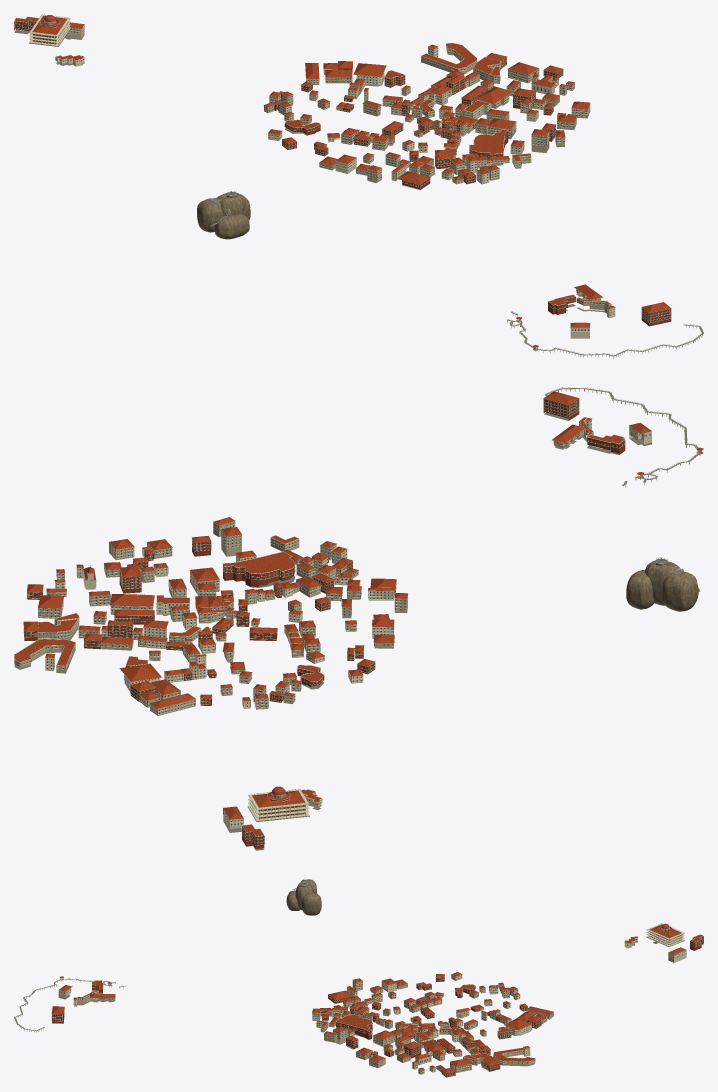
File: detail.glb
3 views of the same model, one above another, from view 1: azimuth 30°, elevation 25°; view 2: azimuth 150°, elevation 25°; view 3: azimuth 270°, elevation 25° (orthographic). The views are drawn at different scales.
Parts seen in each view (by area): view 1: B_164669129_协和礼拜堂, B_641097232_Historic_villa, LM_Sunlight_Rock_日光岩_Granite; view 2: B_164669129_协和礼拜堂, B_641097232_Historic_villa, LM_Sunlight_Rock_日光岩_Granite; view 3: B_164669129_协和礼拜堂, B_641097232_Historic_villa, LM_Sunlight_Rock_日光岩_Granite.
Boxes of the visible parts, x1,y1,x2,y2 form: B_164669129_协和礼拜堂: (14,14,703,358); B_641097232_Historic_villa: (14,21,671,349); LM_Sunlight_Rock_日光岩_Granite: (197,193,250,239); B_164669129_协和礼拜堂: (14,387,703,850); B_641097232_Historic_villa: (24,399,701,848); LM_Sunlight_Rock_日光岩_Granite: (626,560,698,611); B_164669129_协和礼拜堂: (14,880,703,1076); B_641097232_Historic_villa: (52,932,703,1077); LM_Sunlight_Rock_日光岩_Granite: (286,879,321,915).
Size of the model in its own units: 649 by 96.19 by 1169.
12 materials, 7 textured.
